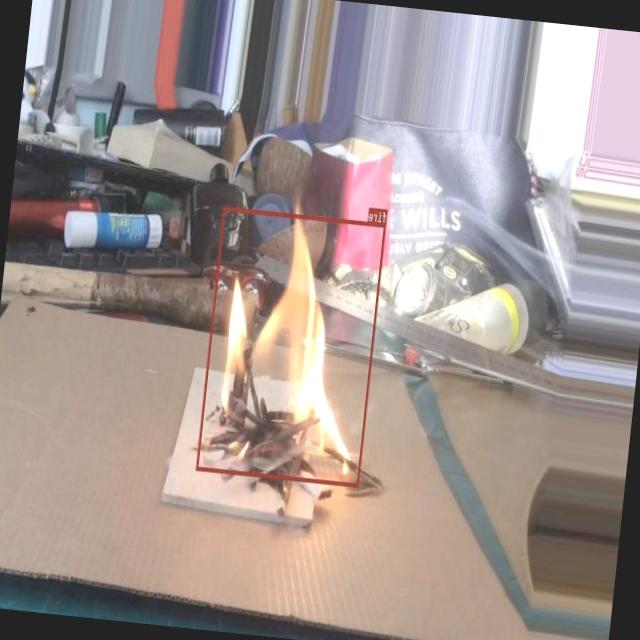fire: (196, 205, 387, 486)
